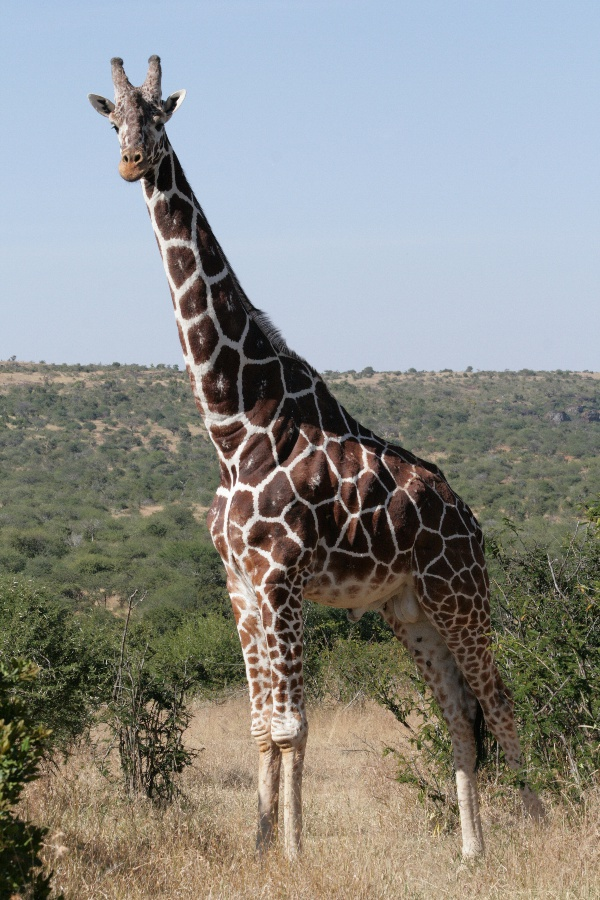giraffe: (71, 39, 530, 853)
